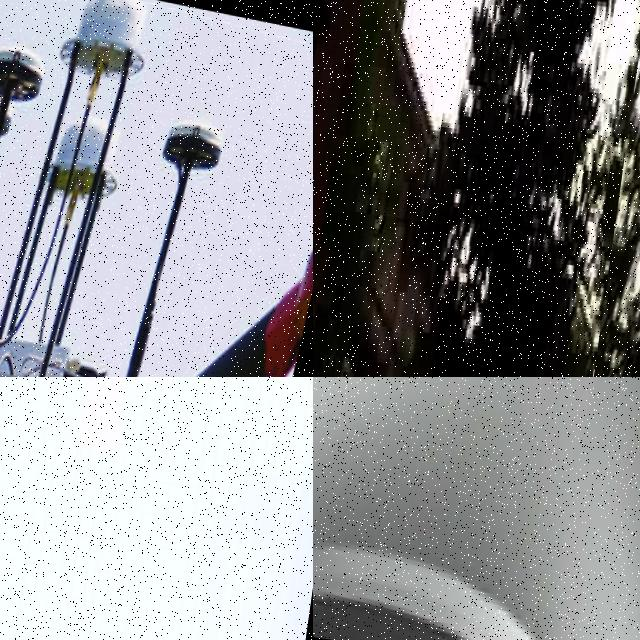drone: (0, 0, 313, 377), (313, 377, 640, 640), (574, 0, 640, 377)
